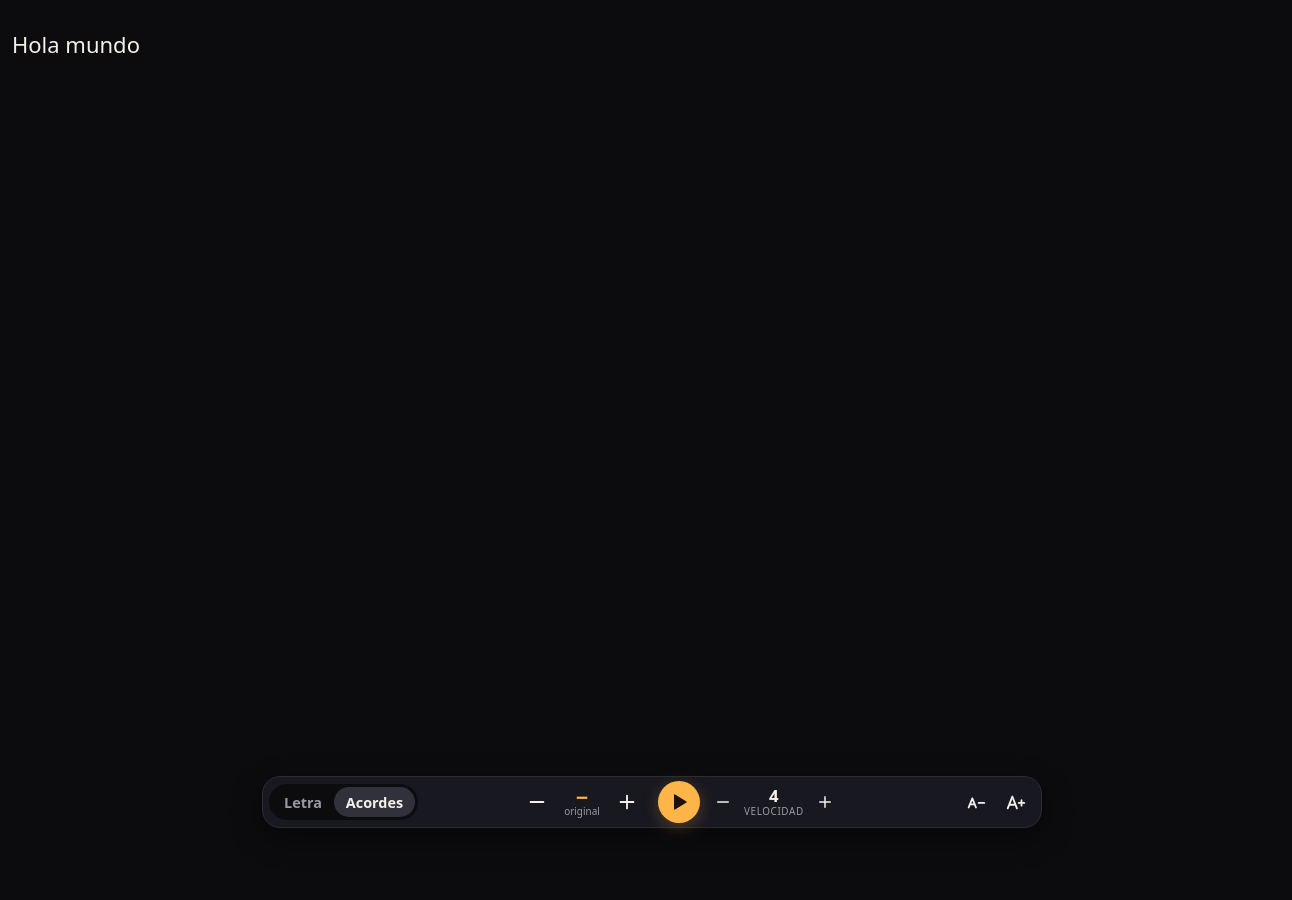
it: SongPanel › notes also show in Letra mode
This screenshot has width=1292, height=900.
Click the button "Letra".
click(303, 802)  # box [272,787,334,817]
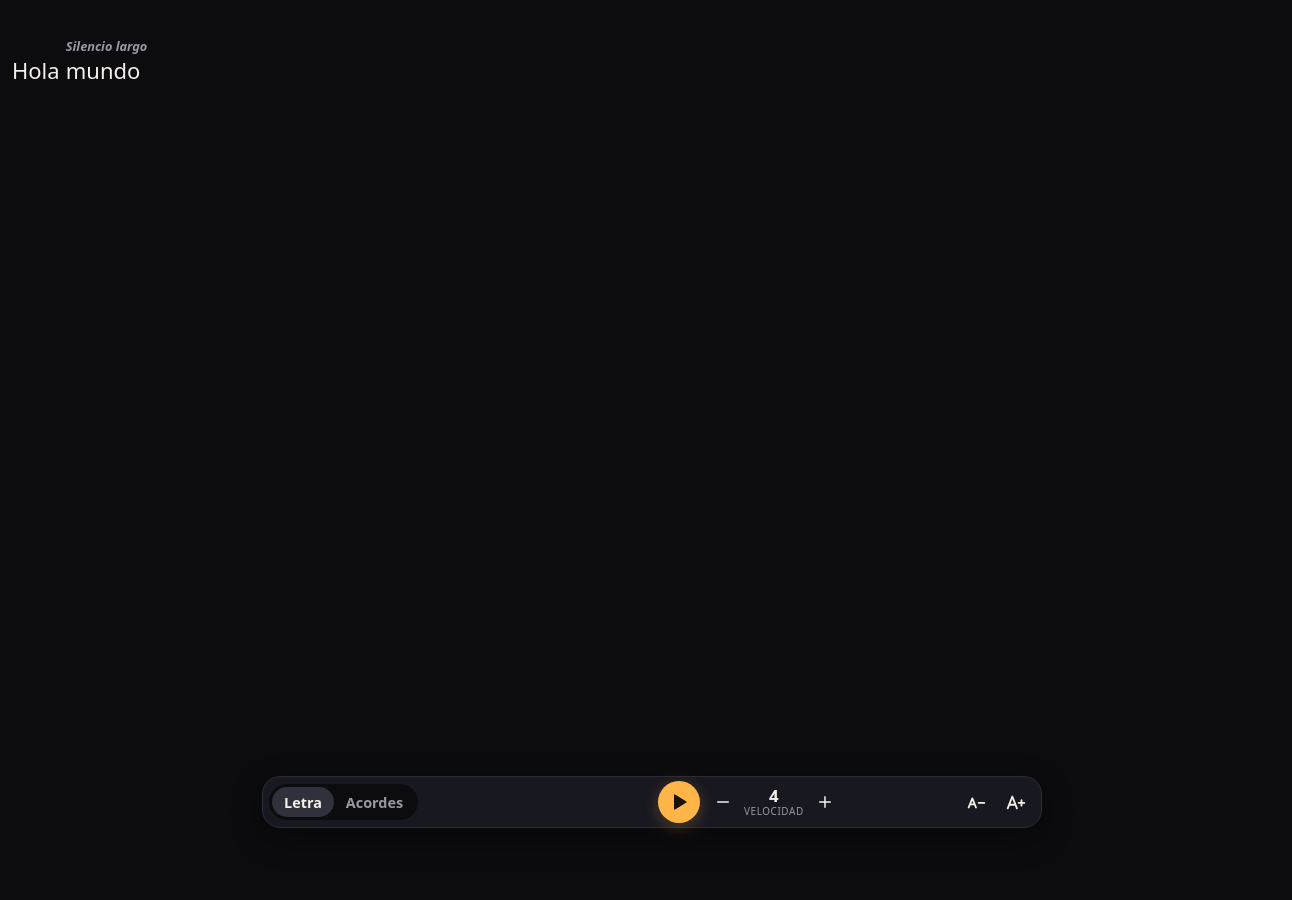
Expected: the text "Silencio largo" is shown, [66,36,147,56]
